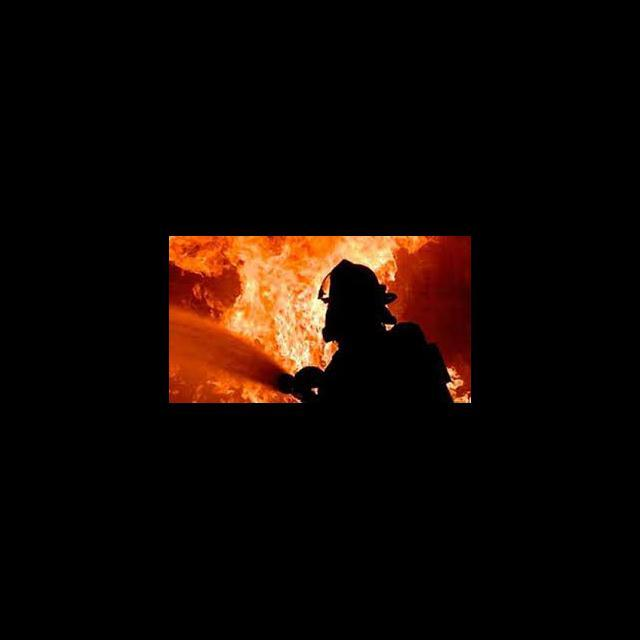Fire: (170, 256, 318, 360), (170, 237, 441, 260), (170, 380, 302, 402), (276, 352, 314, 376), (445, 367, 471, 402), (314, 342, 336, 368), (379, 259, 396, 283)
